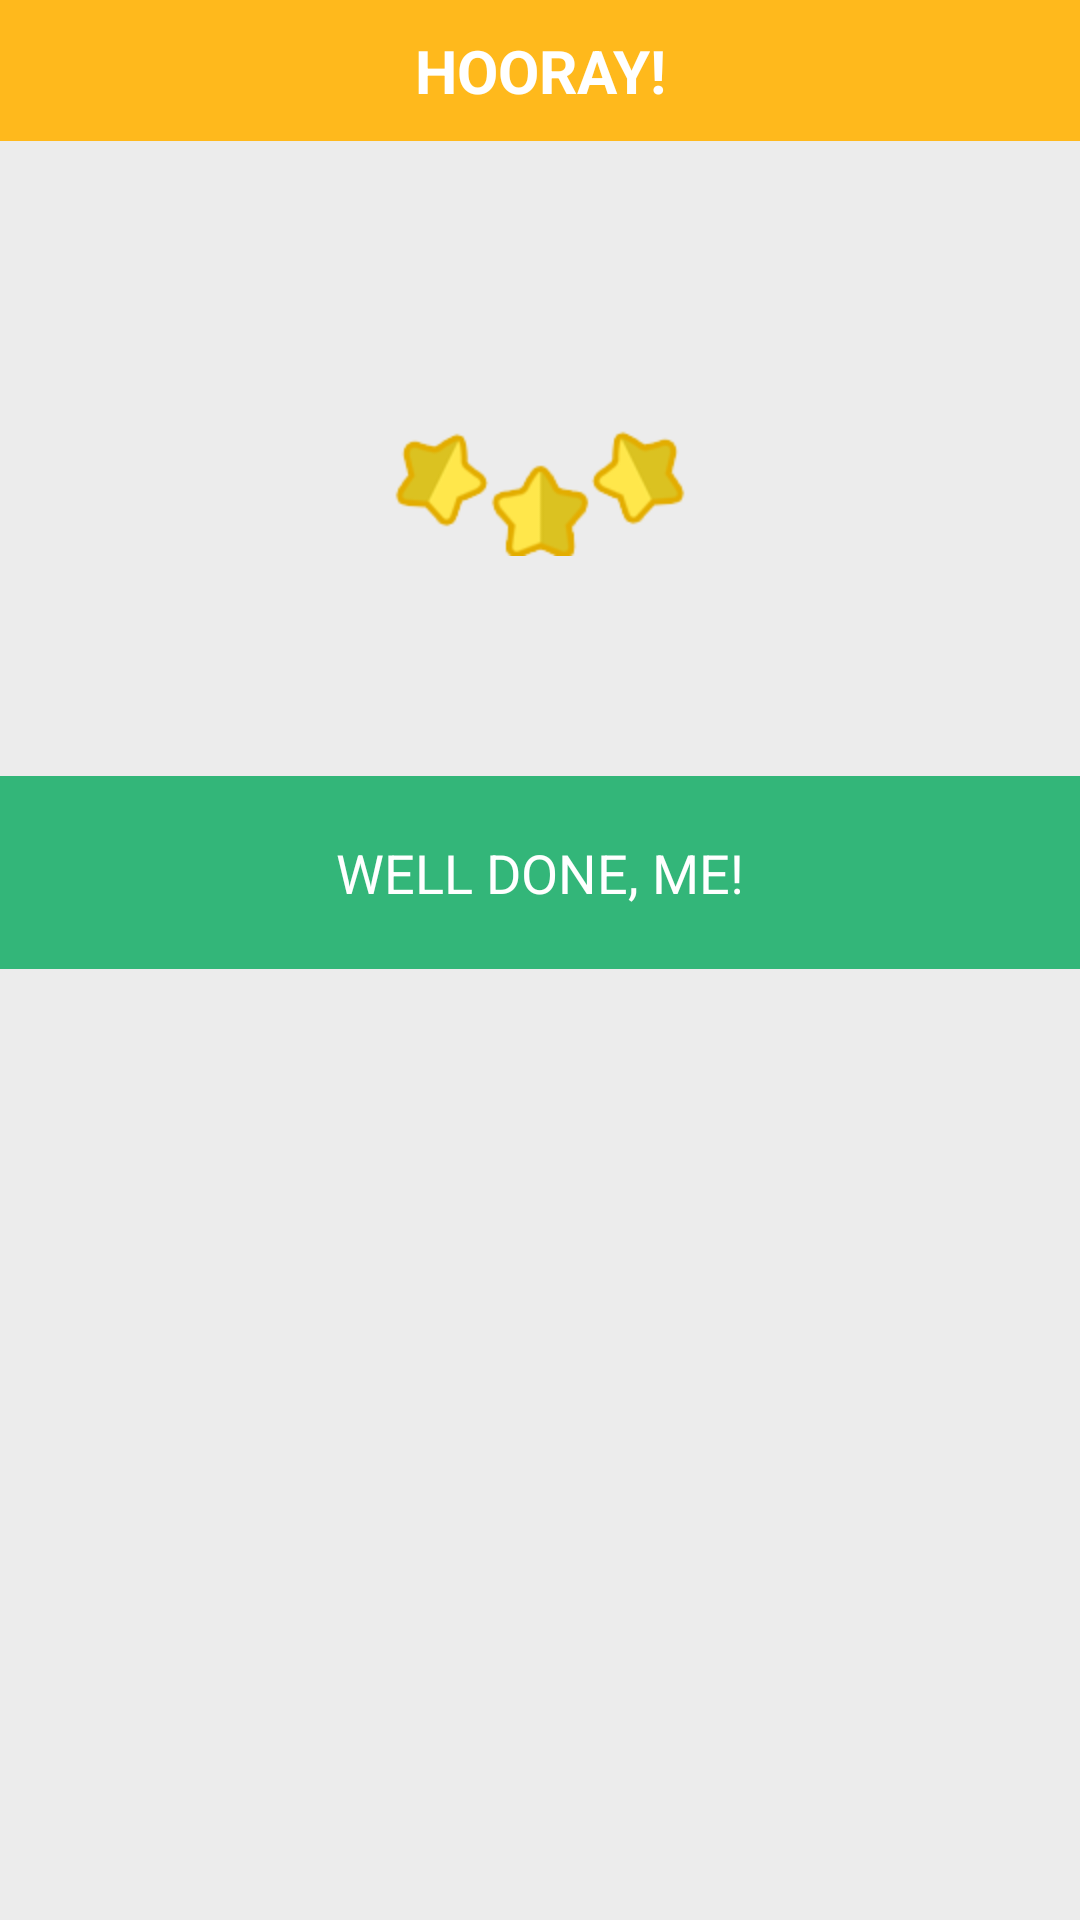

Point at icon controls on the screen. Image size 1080 x 1920, points as (x=x, y=y).
star: (x=540, y=493)
